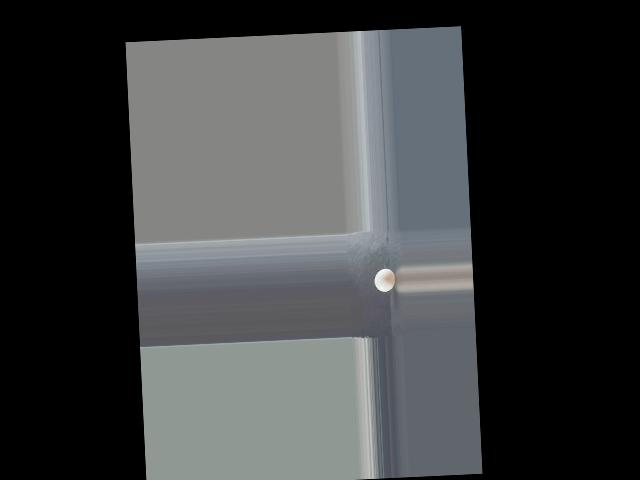egg: (373, 267, 395, 291)
